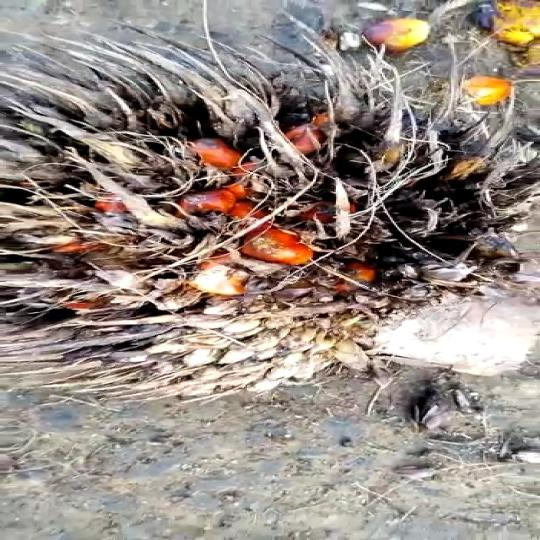terlalu masak: (0, 9, 540, 418)
